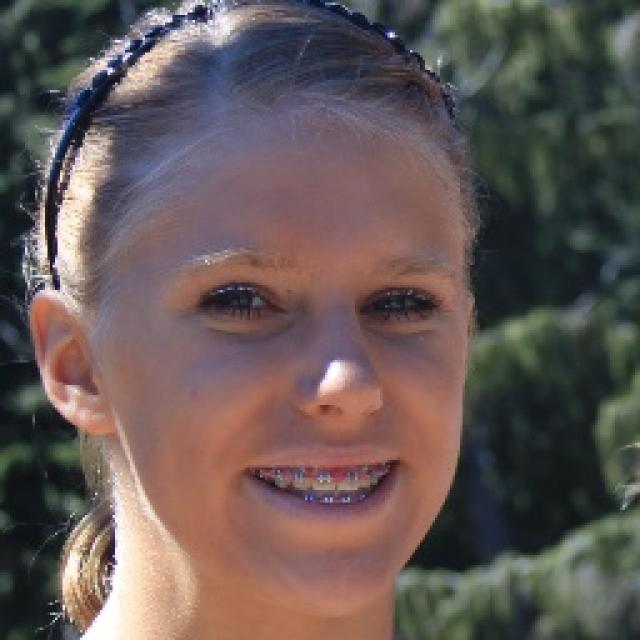earlobe: (77, 388, 119, 436)
eye: (198, 283, 277, 314), (366, 290, 434, 318)
nose: (289, 393, 407, 459)
wholeear: (29, 289, 119, 436)
